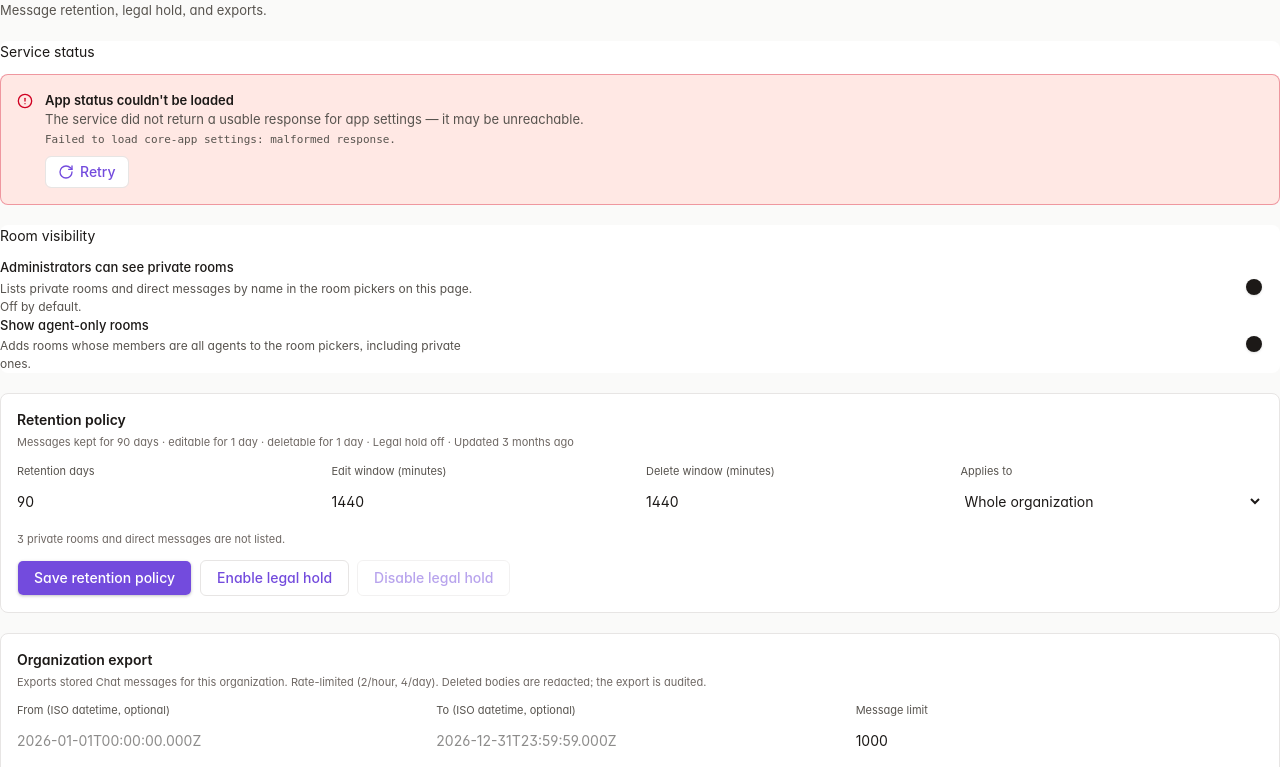
Scenario: ChatAdminSection › offers rooms by name and says how many private ones are left out
Select "Launch (invitation only)" in the dropdown labelled "Applies to" at [1112, 501], box [960, 483, 1263, 519]
(page scrolled)
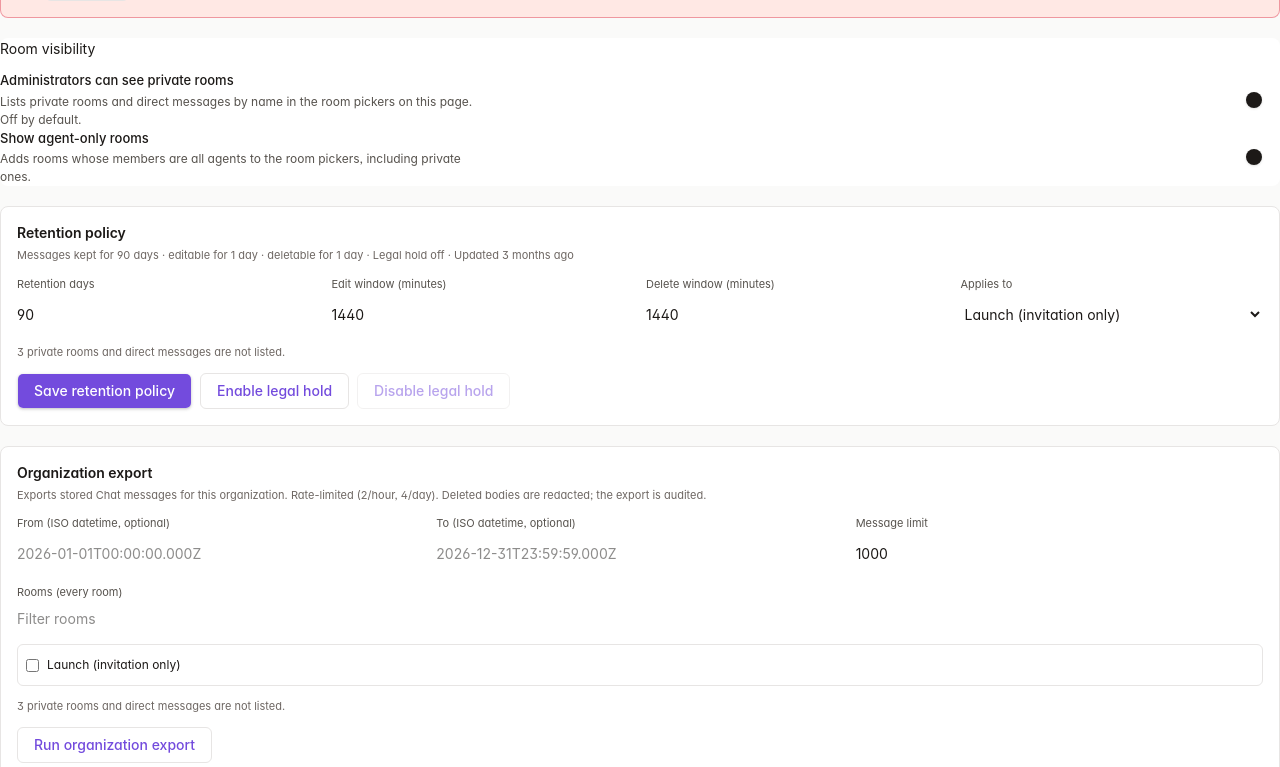
Click the checkbox labelled "Launch (invitation only)" at [32, 665], box [26, 658, 39, 672]
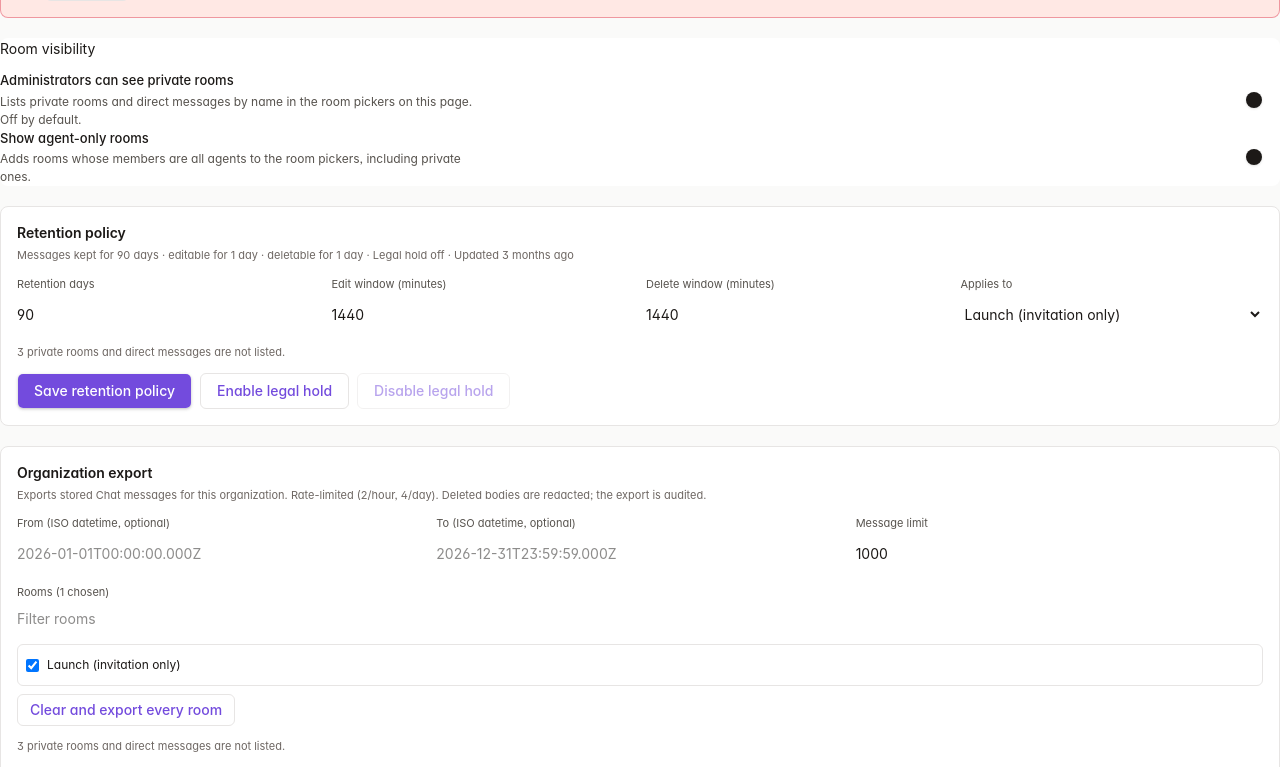
Now the text "Rooms (1 chosen)" is shown, box [17, 584, 109, 600]
